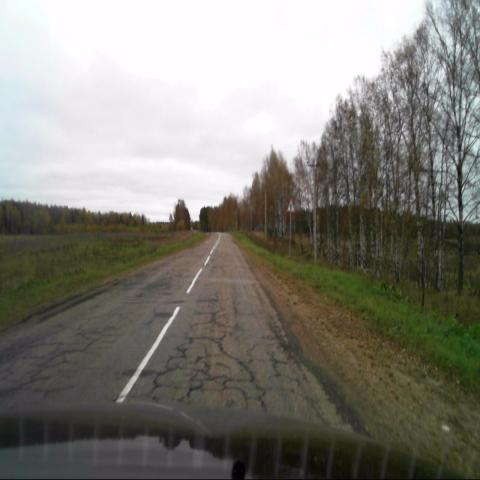2_3_3: (286, 198, 294, 213)
